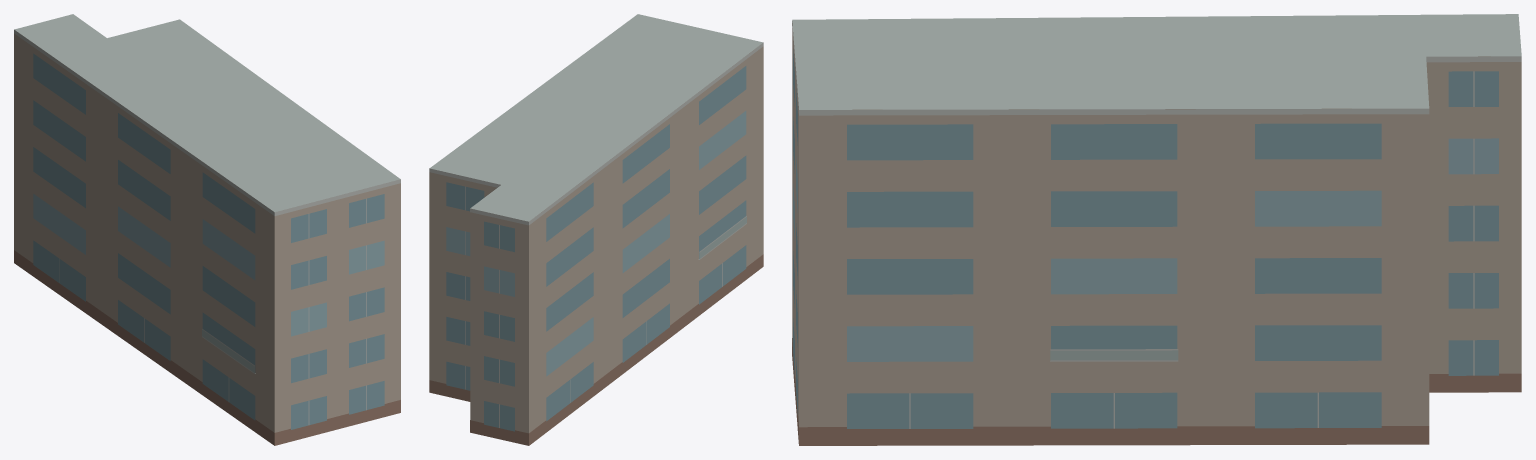
The model's file is survey-upis-32650000.glb.
3 renders of one model, left to right at view 1: azimuth 30°, elevation 25°; view 2: azimuth 150°, elevation 25°; view 3: azimuth 270°, elevation 25°, orthographic. The views are drawn at different scales.
Parts seen in each view (by area): view 1: survey-upis-32650000.tmp; view 2: survey-upis-32650000.tmp; view 3: survey-upis-32650000.tmp.
Boxes of the visible parts, box(x1,y1,x2,y2) form: survey-upis-32650000.tmp: box(14, 14, 400, 445); survey-upis-32650000.tmp: box(429, 14, 763, 445); survey-upis-32650000.tmp: box(792, 14, 1521, 445).
Size of the model in its own units: 8.89 by 14.5 by 28.55.
